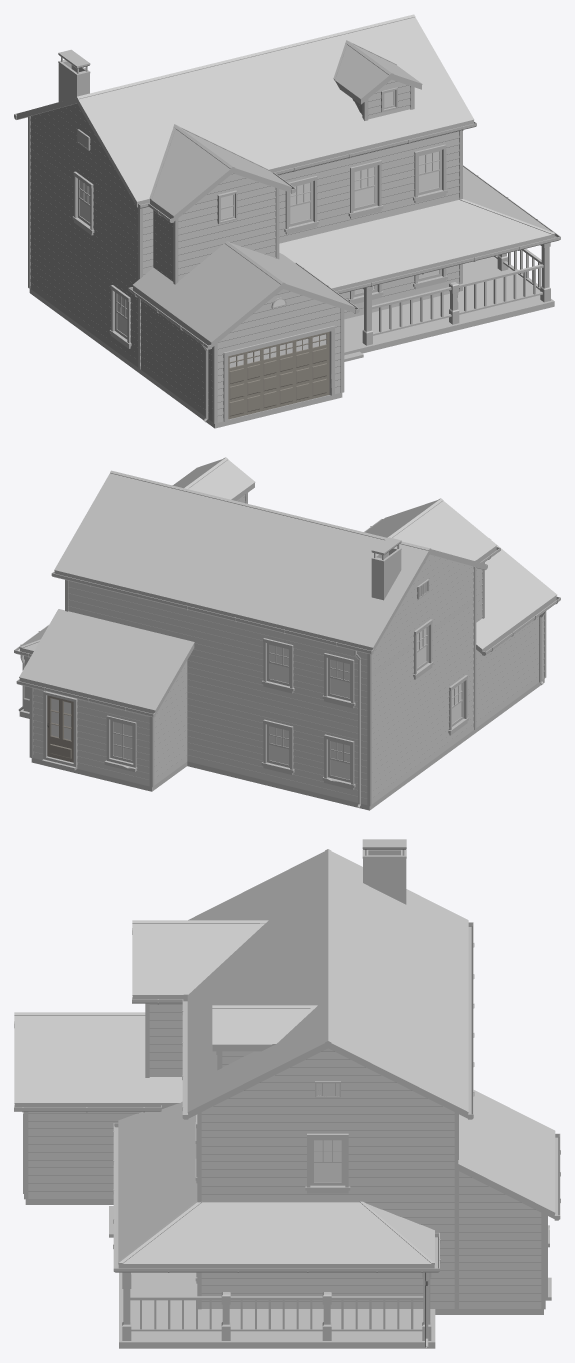
The model's file is SM_Bldg_Suburb_House_07.fbx.
3 views of the same model, one above another, from view 1: azimuth 30°, elevation 25°; view 2: azimuth 150°, elevation 25°; view 3: azimuth 270°, elevation 25° (orthographic). The views are drawn at different scales.
Visible parts, largest first — view 1: SM_Bldg_Suburb_House_07.002, SM_Bldg_Suburb_House_07_Door_02.002, SM_Bldg_Suburb_House_07_Glass.002; view 2: SM_Bldg_Suburb_House_07.002, SM_Bldg_Suburb_House_07_Glass.002, SM_Bldg_Suburb_House_07_Door_03.002; view 3: SM_Bldg_Suburb_House_07.002, SM_Bldg_Suburb_House_07_Glass.002.
Part boxes in pixels (x1,y1,x2,y2): SM_Bldg_Suburb_House_07.002: (14,14,560,428); SM_Bldg_Suburb_House_07_Door_02.002: (228,331,329,419); SM_Bldg_Suburb_House_07_Glass.002: (80,91,439,336); SM_Bldg_Suburb_House_07.002: (14,457,560,810); SM_Bldg_Suburb_House_07_Glass.002: (113,627,461,779); SM_Bldg_Suburb_House_07_Door_03.002: (47,695,73,762); SM_Bldg_Suburb_House_07.002: (14,839,560,1348); SM_Bldg_Suburb_House_07_Glass.002: (314,1140,341,1182).
Size of the model in its own units: 1542 by 945 by 1577.
